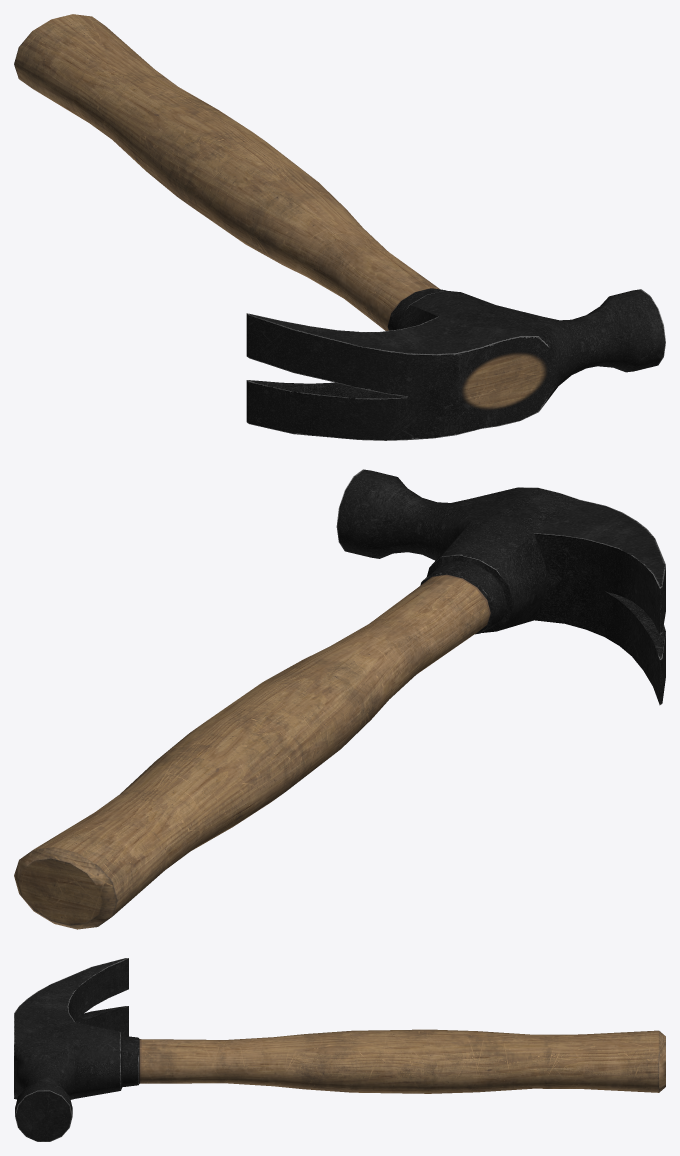
The model's file is hammer.glb.
3 renders of one model, top to bottom at view 1: azimuth 30°, elevation 25°; view 2: azimuth 150°, elevation 25°; view 3: azimuth 270°, elevation 25°, orthographic. The views are drawn at different scales.
Parts seen in each view (by area): view 1: Clawhammer_ClawHammer_0; view 2: Clawhammer_ClawHammer_0; view 3: Clawhammer_ClawHammer_0.
Part boxes in pixels (x1,y1,x2,y2): Clawhammer_ClawHammer_0: (14, 14, 665, 440); Clawhammer_ClawHammer_0: (14, 469, 665, 929); Clawhammer_ClawHammer_0: (14, 958, 665, 1141).
Size of the model in its own units: 0.1476 by 0.0453 by 0.341.
1 material, 1 textured.
